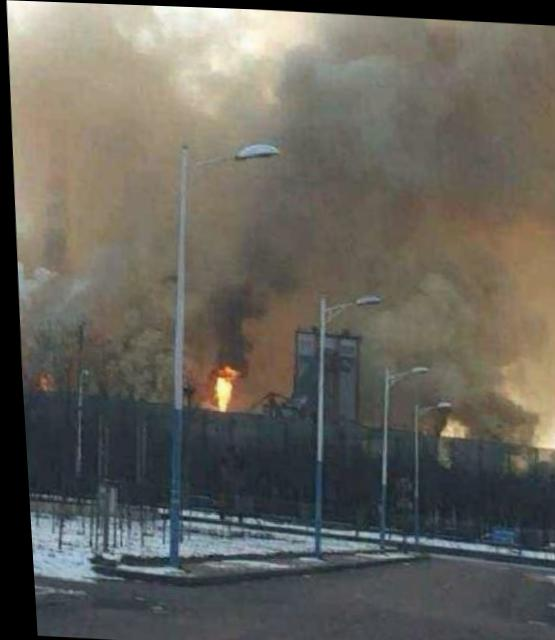fire: (205, 373, 224, 407)
